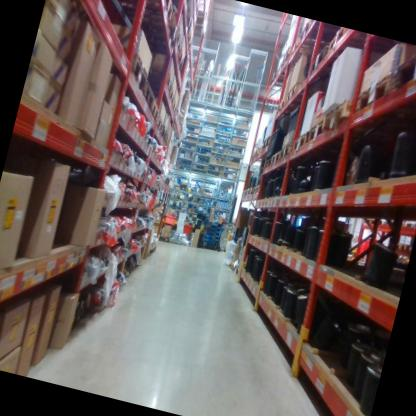pallet: (110, 0, 192, 60), (350, 66, 416, 137), (303, 119, 378, 166), (320, 96, 385, 148), (326, 26, 388, 67), (107, 43, 155, 95), (79, 0, 182, 24), (306, 41, 350, 89), (296, 18, 335, 57), (290, 33, 329, 68), (390, 46, 416, 94), (144, 67, 177, 96), (138, 71, 162, 110), (282, 81, 306, 112), (142, 93, 165, 122), (289, 131, 310, 160), (278, 44, 301, 69), (277, 141, 296, 165), (274, 93, 289, 117), (269, 146, 282, 172), (271, 63, 287, 84), (173, 49, 188, 71), (261, 154, 275, 175), (153, 114, 166, 134), (260, 135, 272, 156), (165, 87, 177, 105), (252, 182, 265, 197), (240, 184, 250, 201), (245, 185, 255, 200), (142, 249, 152, 264), (169, 100, 179, 115), (258, 140, 266, 156), (253, 144, 261, 160), (160, 128, 169, 142), (159, 233, 170, 244), (151, 242, 159, 257), (250, 151, 256, 162)
